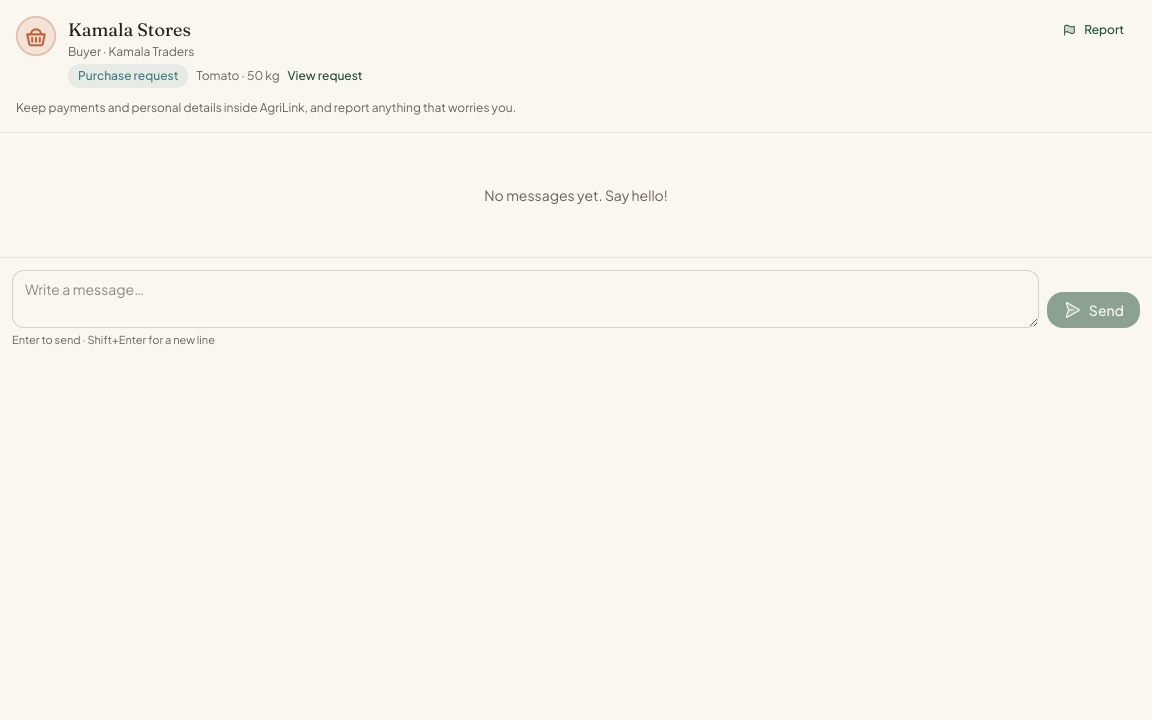
ChatThread › opens the report form
Click the button "Report" at [1093, 30], box [1050,16,1136,44]
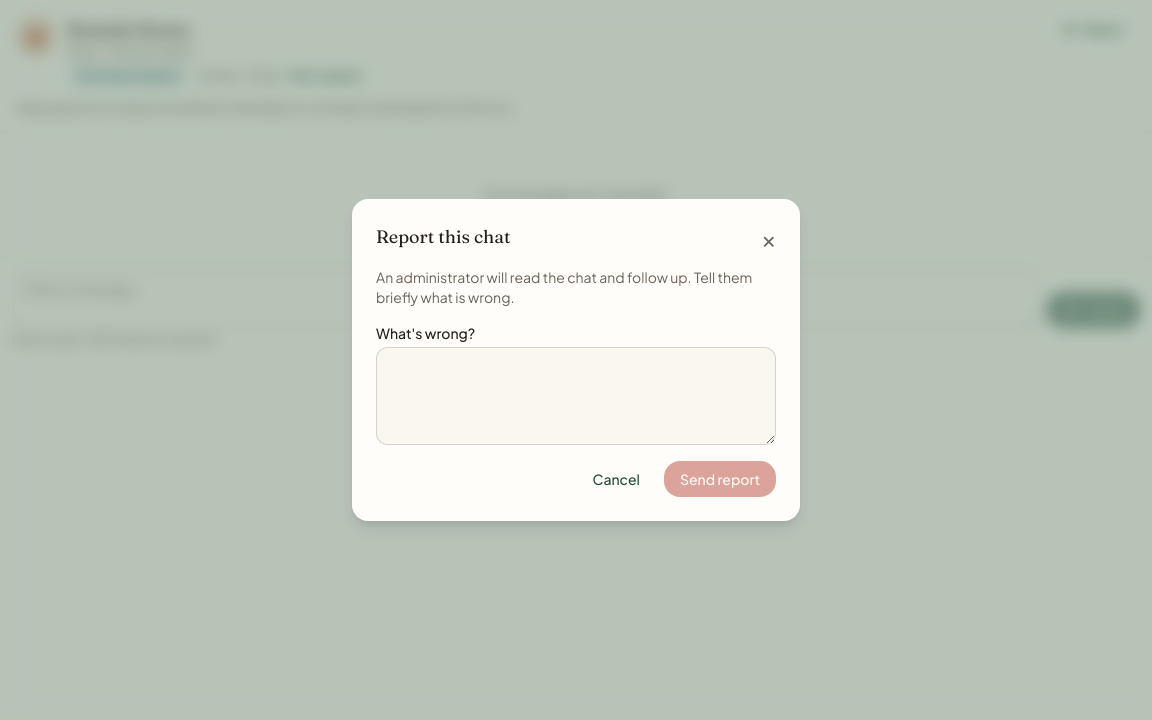
Check: the dialog "Report this chat" is shown, box [352,199,800,521]
